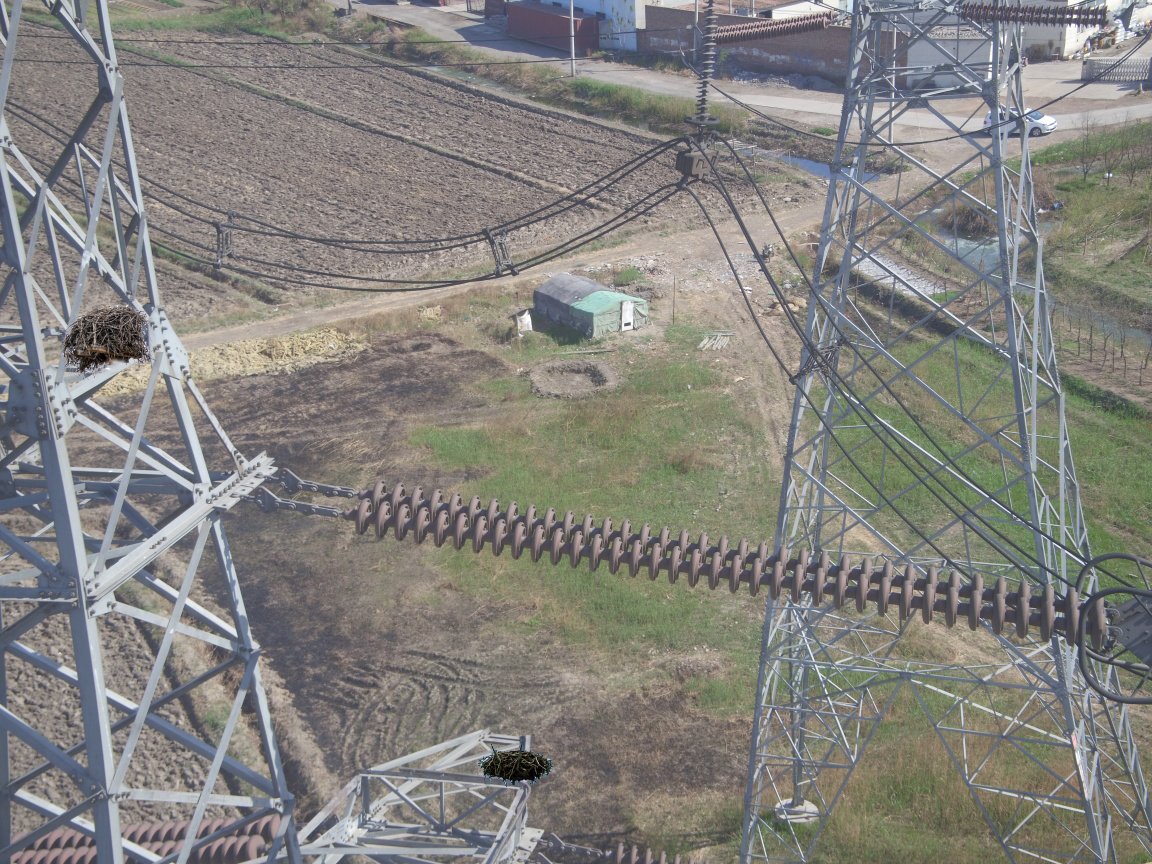nest: (64, 299, 149, 378), (471, 748, 562, 789)
